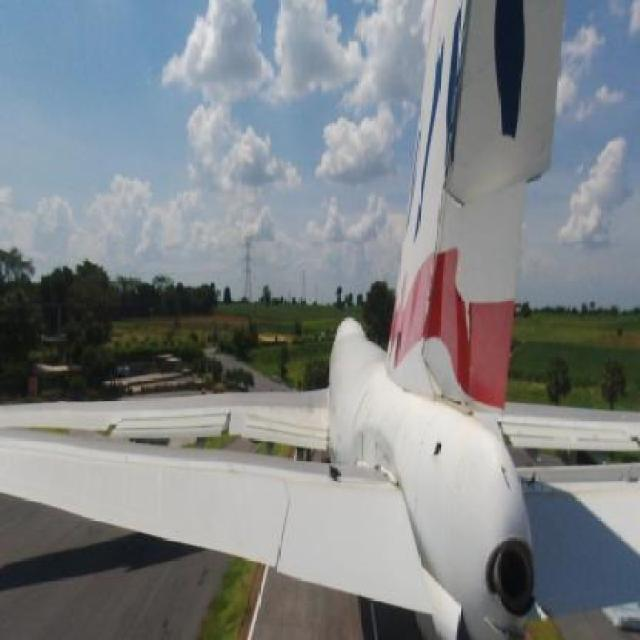Scartch: (372, 436, 398, 469)
